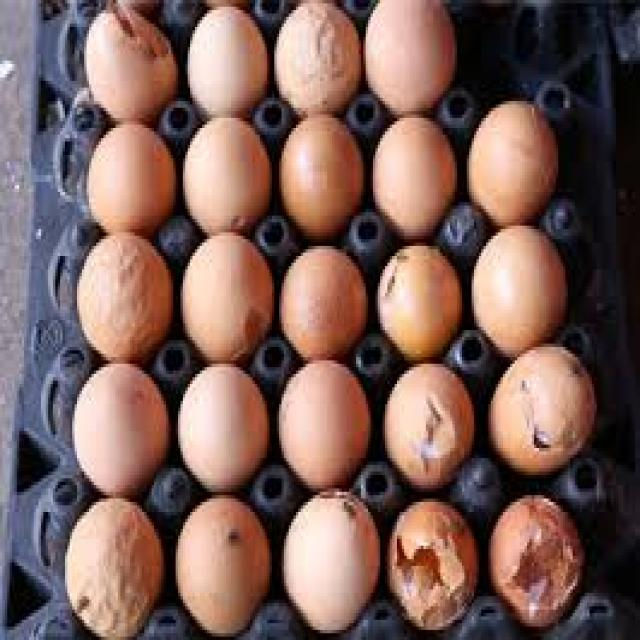organic waste: (486, 337, 594, 478), (279, 482, 375, 630), (63, 492, 161, 636), (168, 492, 267, 630), (484, 485, 580, 627), (70, 361, 168, 495), (75, 229, 173, 360), (176, 229, 272, 360), (173, 364, 265, 498), (378, 357, 472, 488), (385, 492, 476, 623), (277, 357, 368, 488), (464, 94, 554, 226), (81, 0, 173, 121), (474, 226, 565, 347), (373, 236, 459, 360), (178, 111, 267, 229), (370, 108, 454, 229), (277, 239, 363, 357), (361, 0, 452, 111), (276, 111, 358, 233), (84, 118, 171, 226), (271, 0, 358, 104), (183, 4, 265, 114)
